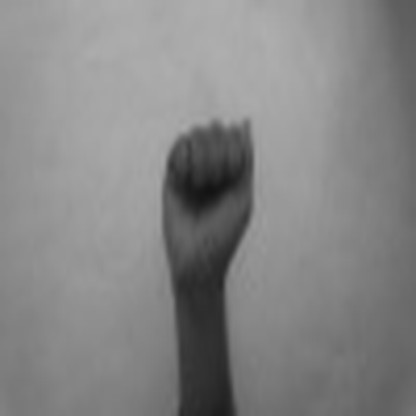a: (154, 103, 263, 286)
